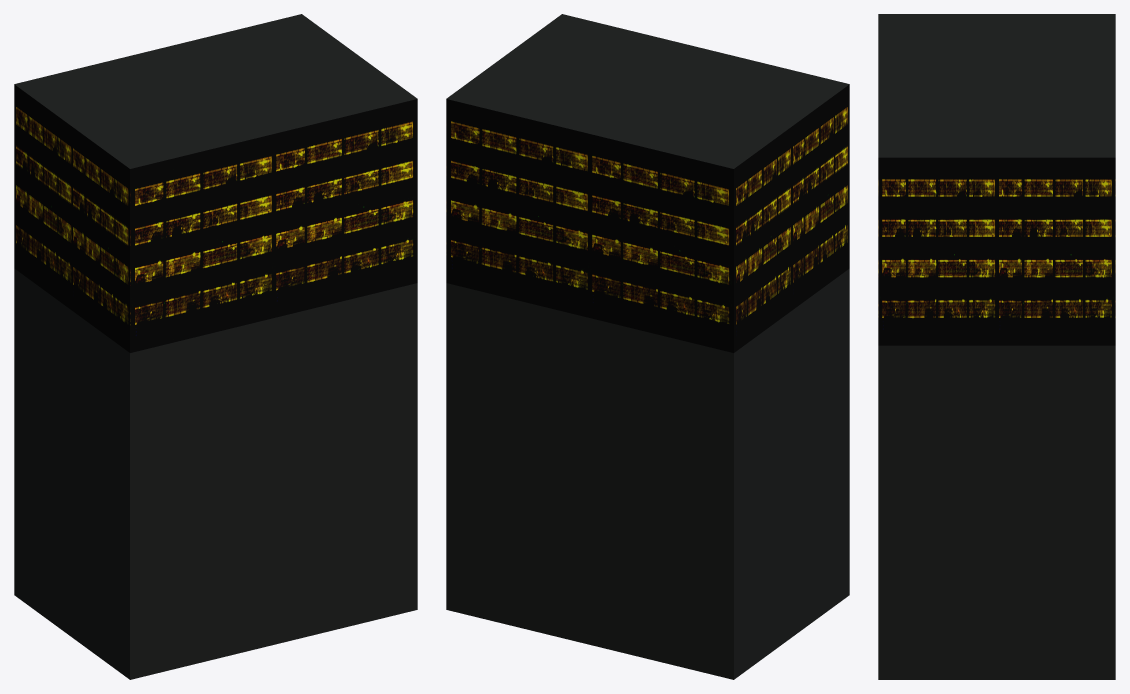
Rendered from AMB_PARKING.glb.
3 renders of one model, left to right at view 1: azimuth 30°, elevation 25°; view 2: azimuth 150°, elevation 25°; view 3: azimuth 270°, elevation 25°, orthographic. The views are drawn at different scales.
Parts seen in each view (by area): view 1: BASE; view 2: BASE; view 3: BASE.
Part boxes in pixels (box(x1,y1,x2,y2)): BASE: box(14, 14, 417, 679); BASE: box(446, 14, 849, 679); BASE: box(878, 14, 1115, 679).
Bounding box in the file's own units: 85.03 × 144 × 59.38.
Materials: 2 (2 with a texture image).
